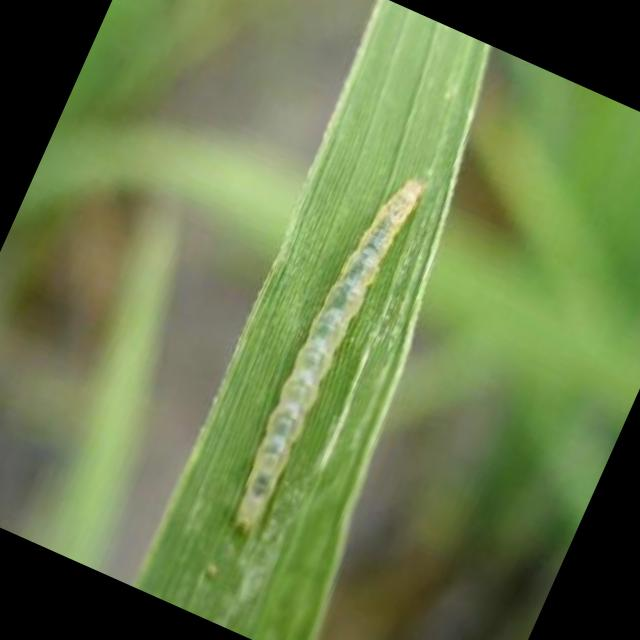leaf-folder: (175, 134, 472, 604)
